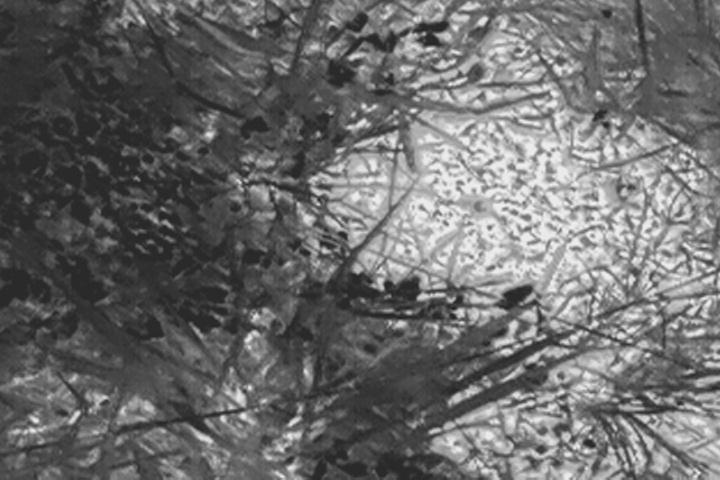landmine: (342, 115, 596, 286)
